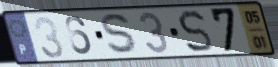3: (137, 11, 170, 57), (33, 15, 64, 59)
6: (64, 15, 95, 57)
7: (207, 6, 238, 55)
S: (99, 12, 142, 58), (176, 9, 215, 55)
